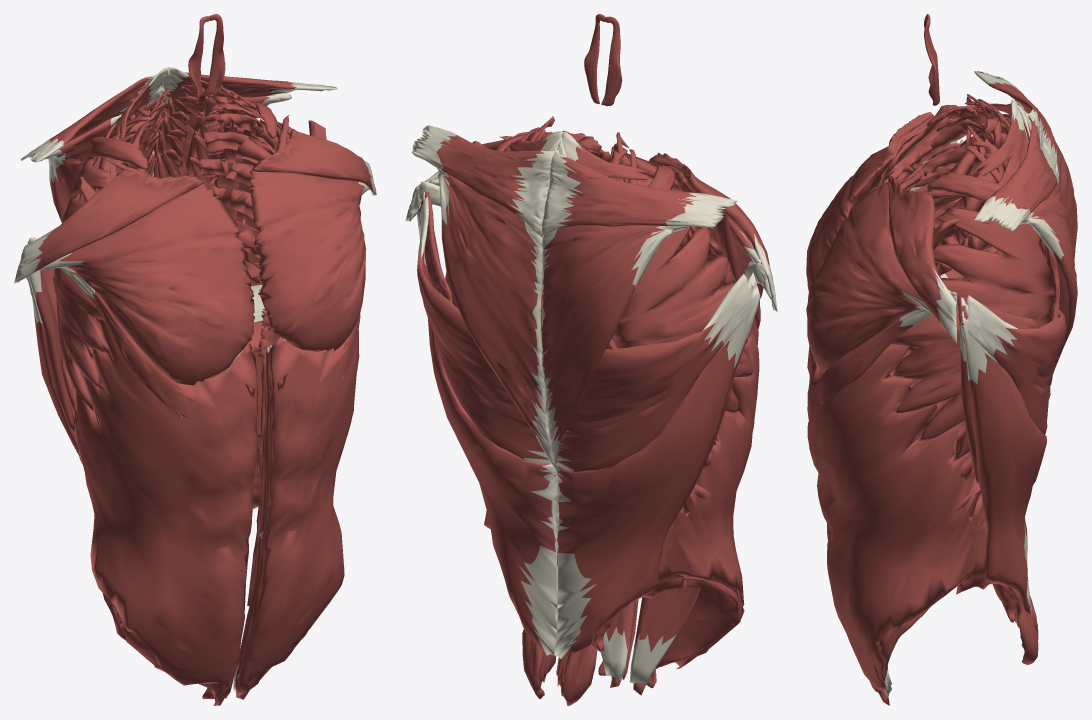
The model's file is muscular-trunk-balanced.glb.
3 views of the same model, side by side, from view 1: azimuth 30°, elevation 25°; view 2: azimuth 150°, elevation 25°; view 3: azimuth 270°, elevation 25° (orthographic). The views are drawn at different scales.
Parts seen in each view (by area): view 1: za.external-abdominal-oblique-muscle-r, za.sternocostal-head-of-pectoralis-major-muscle-r, za.external-abdominal-oblique-muscle-l, za.sternocostal-head-of-pectoralis-major-muscle-l, za.clavicular-head-of-pectoralis-major-muscle-r, za.serratus-anterior-muscle-r, za.clavicular-head-of-pectoralis-major-muscle-l, za.latissimus-dorsi-muscle-r, za.external-intercostal-muscles-l, za.abdominal-part-of-pectoralis-major-muscle-r, za.innermost-intercostal-muscles-l, za.descending-part-of-trapezius-muscle-r (+19 smaller); view 2: za.latissimus-dorsi-muscle-r, za.latissimus-dorsi-muscle-l, za.descending-part-of-trapezius-muscle-l, za.descending-part-of-trapezius-muscle-r, za.serratus-anterior-muscle-r, za.external-abdominal-oblique-muscle-r, za.transverse-part-of-trapezius-muscle-r, za.transverse-part-of-trapezius-muscle-l, za.transversus-abdominis-muscle-r, za.rectus-abdominis-muscle-r, za.clavicular-head-of-pectoralis-major-muscle-r, za.rectus-abdominis-muscle-l (+10 smaller); view 3: za.external-abdominal-oblique-muscle-l, za.latissimus-dorsi-muscle-l, za.serratus-anterior-muscle-l, za.sternocostal-head-of-pectoralis-major-muscle-l, za.clavicular-head-of-pectoralis-major-muscle-l, za.transverse-part-of-trapezius-muscle-l, za.sternocostal-head-of-pectoralis-major-muscle-r, za.descending-part-of-trapezius-muscle-l, za.innermost-intercostal-muscles-r, za.abdominal-part-of-pectoralis-major-muscle-l, za.external-intercostal-muscles-l, za.external-intercostal-muscles-r (+12 smaller).
Part boxes in pixels (x1=…): za.external-abdominal-oblique-muscle-r: x1=73, y1=319, x2=257, y2=686; za.sternocostal-head-of-pectoralis-major-muscle-r: x1=37, y1=183, x2=254, y2=385; za.external-abdominal-oblique-muscle-l: x1=247, y1=330, x2=359, y2=681; za.sternocostal-head-of-pectoralis-major-muscle-l: x1=250, y1=170, x2=369, y2=351; za.clavicular-head-of-pectoralis-major-muscle-r: x1=14, y1=170, x2=203, y2=283; za.serratus-anterior-muscle-r: x1=53, y1=136, x2=148, y2=415; za.clavicular-head-of-pectoralis-major-muscle-l: x1=252, y1=129, x2=376, y2=195; za.latissimus-dorsi-muscle-r: x1=26, y1=237, x2=79, y2=455; za.external-intercostal-muscles-l: x1=200, y1=96, x2=289, y2=270; za.abdominal-part-of-pectoralis-major-muscle-r: x1=27, y1=237, x2=196, y2=417; za.innermost-intercostal-muscles-l: x1=221, y1=119, x2=287, y2=284; za.descending-part-of-trapezius-muscle-r: x1=45, y1=114, x2=121, y2=222; za.latissimus-dorsi-muscle-r: x1=554, y1=272, x2=760, y2=658; za.latissimus-dorsi-muscle-l: x1=417, y1=192, x2=558, y2=655; za.descending-part-of-trapezius-muscle-l: x1=437, y1=168, x2=556, y2=470; za.descending-part-of-trapezius-muscle-r: x1=541, y1=225, x2=689, y2=470; za.serratus-anterior-muscle-r: x1=612, y1=165, x2=752, y2=445; za.external-abdominal-oblique-muscle-r: x1=667, y1=319, x2=759, y2=669; za.transverse-part-of-trapezius-muscle-r: x1=541, y1=149, x2=737, y2=237; za.transverse-part-of-trapezius-muscle-l: x1=412, y1=125, x2=559, y2=237; za.transversus-abdominis-muscle-r: x1=633, y1=577, x2=741, y2=695; za.rectus-abdominis-muscle-r: x1=629, y1=586, x2=699, y2=684; za.clavicular-head-of-pectoralis-major-muscle-r: x1=649, y1=153, x2=777, y2=311; za.rectus-abdominis-muscle-l: x1=600, y1=600, x2=635, y2=680; za.external-abdominal-oblique-muscle-l: x1=807, y1=344, x2=985, y2=690; za.latissimus-dorsi-muscle-l: x1=959, y1=295, x2=1066, y2=615; za.serratus-anterior-muscle-l: x1=891, y1=172, x2=1056, y2=461; za.sternocostal-head-of-pectoralis-major-muscle-l: x1=806, y1=182, x2=956, y2=371; za.clavicular-head-of-pectoralis-major-muscle-l: x1=888, y1=174, x2=957, y2=343; za.transverse-part-of-trapezius-muscle-l: x1=974, y1=113, x2=1058, y2=231; za.sternocostal-head-of-pectoralis-major-muscle-r: x1=806, y1=141, x2=926, y2=291; za.descending-part-of-trapezius-muscle-l: x1=1019, y1=185, x2=1077, y2=373; za.innermost-intercostal-muscles-r: x1=884, y1=119, x2=1005, y2=245; za.abdominal-part-of-pectoralis-major-muscle-l: x1=817, y1=292, x2=957, y2=405; za.external-intercostal-muscles-l: x1=896, y1=138, x2=1003, y2=511; za.external-intercostal-muscles-r: x1=878, y1=107, x2=1004, y2=231.
Bounding box in the file's own units: 0.4003 × 0.7097 × 0.2564.
